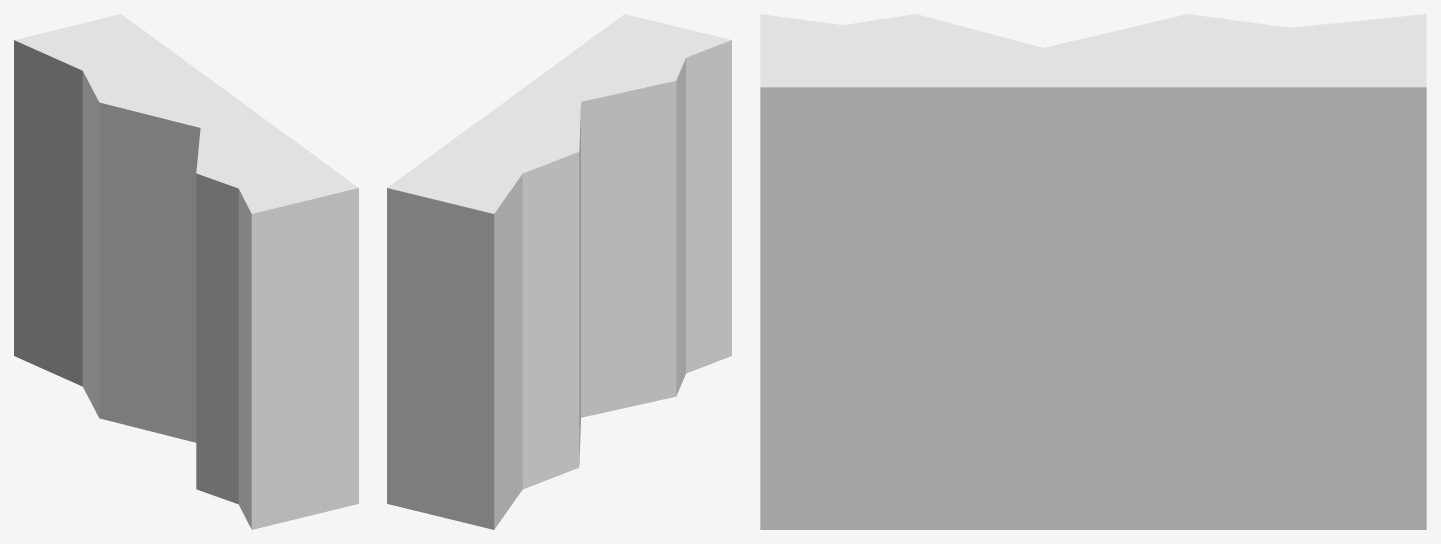
Rendered from Brown_Cliff_01.obj.
3 renders of one model, left to right at view 1: azimuth 30°, elevation 25°; view 2: azimuth 150°, elevation 25°; view 3: azimuth 270°, elevation 25°, orthographic. The views are drawn at different scales.
Parts seen in each view (by area): view 1: Mesh1 Brown_Cliff Model; view 2: Mesh1 Brown_Cliff Model; view 3: Mesh1 Brown_Cliff Model.
Boxes of the visible parts, x1,y1,x2,y2 form: Mesh1 Brown_Cliff Model: [14, 14, 358, 529]; Mesh1 Brown_Cliff Model: [387, 14, 731, 529]; Mesh1 Brown_Cliff Model: [760, 14, 1426, 529].
Bounding box in the file's own units: 0.78 × 2.2 × 3.
Materials: 1 (1 with a texture image).
